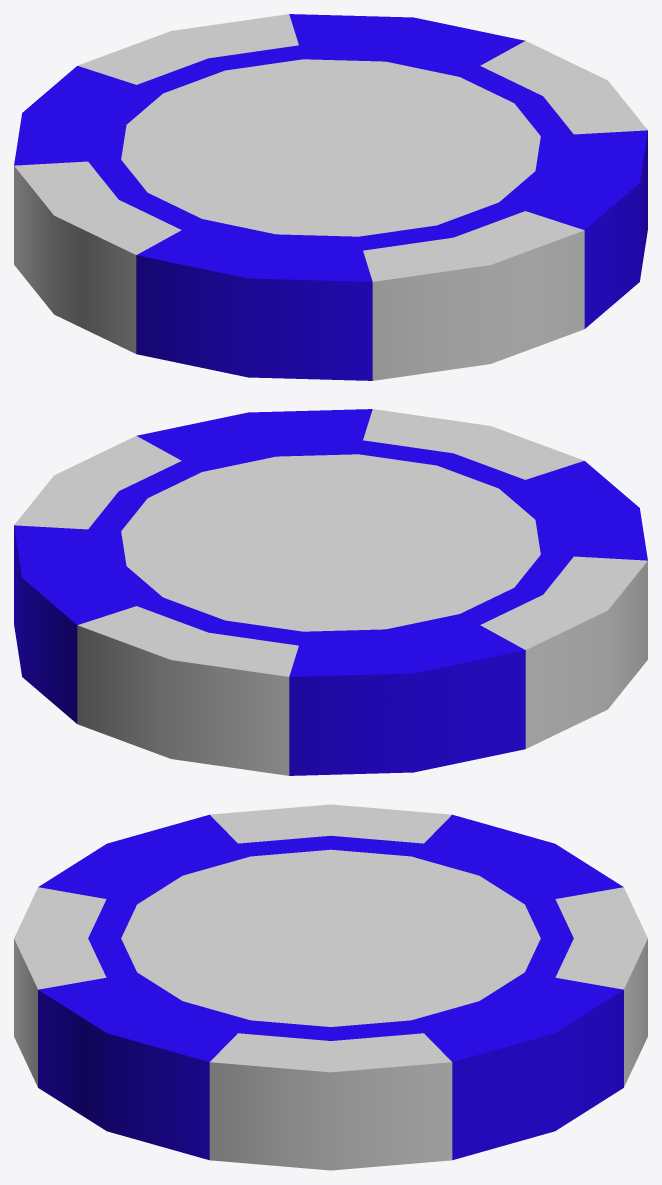
File: blue_chips.glb
The picture shows the model from 3 angles, top to bottom: view 1: azimuth 30°, elevation 25°; view 2: azimuth 150°, elevation 25°; view 3: azimuth 270°, elevation 25°; orthographic projection.
Parts seen in each view (by area): view 1: Cylinder, Cylinder_Mat_0.001; view 2: Cylinder, Cylinder_Mat_0.001; view 3: Cylinder, Cylinder_Mat_0.001.
Part boxes in pixels (box(x1,y1,x2,y2)): Cylinder: box(14, 14, 647, 380); Cylinder_Mat_0.001: box(14, 14, 647, 380); Cylinder: box(14, 409, 647, 775); Cylinder_Mat_0.001: box(14, 409, 647, 775); Cylinder: box(14, 804, 647, 1170); Cylinder_Mat_0.001: box(38, 814, 623, 1160).
Size of the model in its own units: 100 by 17.08 by 100.
